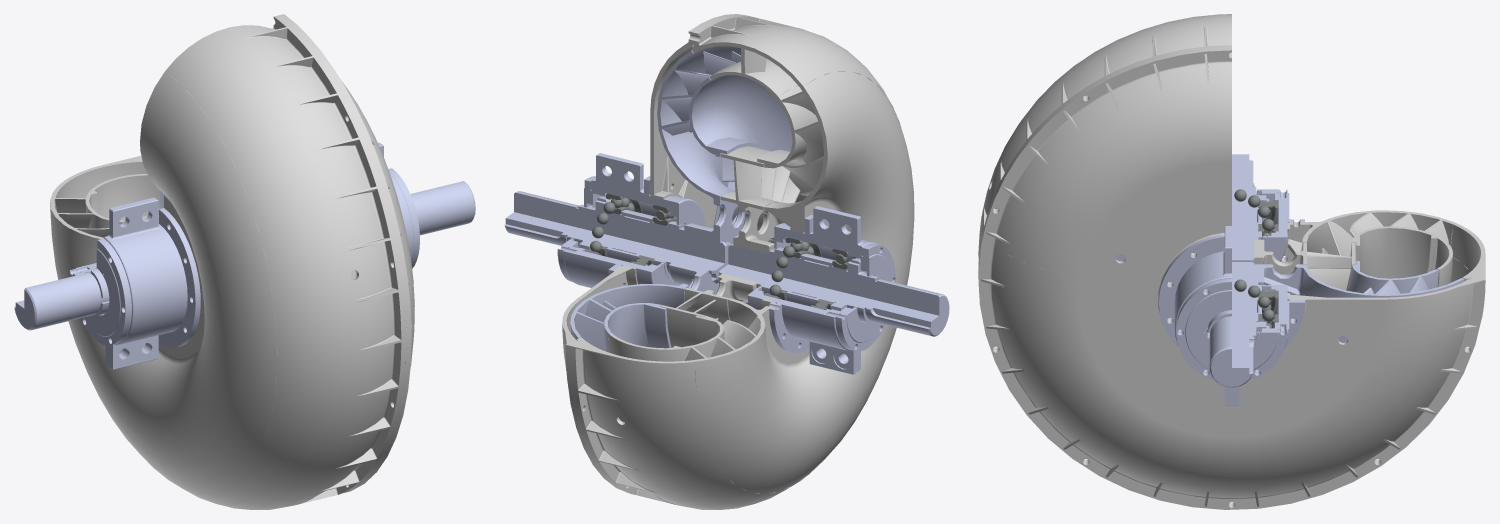
Rendered from 3- повышающий гидротрансформатор.FBX.
3 renders of one model, left to right at view 1: azimuth 30°, elevation 25°; view 2: azimuth 150°, elevation 25°; view 3: azimuth 270°, elevation 25°, orthographic. The views are drawn at different scales.
Parts seen in each view (by area): view 1: Статор - сборка-1/Статор - половина-1-1/Обод статора - левый (×3), Реактор - сборка-1/Обод РК-деталь-1-1-solid2, Статор - сборка-1/Статор - половина-1/Обод статора - левый-1, Стакан-2-1-solid1, Вал-2-1-1-solid1, Крышка-сборка из двух-1/Крышка-левая-2-1-solid1, Крышка подшипника-3-1-solid1, Вал-1-1-solid1, фланец для корпусов-2-1-solid1, Крышка-сборка из двух-1/Крышка-левая-1-solid1, Крышка подшипника-1-1-solid1, Стакан-1-1-solid1 (+1 smaller); view 2: Реактор - сборка-1/Обод РК-деталь-1-1-solid2, Статор - сборка-1/Статор - половина-1/Обод статора - левый-1, Статор - сборка-1/Статор - половина-1-1/Обод статора - левый (×4), НК - сборка-1/Обод НК-деталь-1-1-solid2, НК - сборка-1/Обод НК-деталь-1-1-solid1, Вал-2-1-1-solid1, Вал-1-1-solid1, Стакан-2-1-solid1, Стакан-1-1-solid1, ТК - сборка-1/Обод ТК-деталь-1-1-solid2, Крышка-сборка из двух-1/Крышка-левая-2-1-solid1, Реактор - сборка-1/Обод РК-деталь-1-1-solid1 (+15 smaller); view 3: Крышка-сборка из двух-1/Крышка-левая-1-solid1, Крышка-сборка из двух-1/Крышка-левая-2-1-solid1, Статор - сборка-1/Статор - половина-1-1/Обод статора - левый (×3), Крышка-сборка из двух-1/Крышка-левая-2-1-solid2, Вал-1-1-solid1, Крышка подшипника-1-1-solid1, Реактор - сборка-1/Обод РК-деталь-1-1-solid1, Стакан-1-1-solid1, Реактор - сборка-1/Обод РК-деталь-1-1-solid2, фланец для корпусов-1-1-solid1, НК - сборка-1/Обод НК-деталь-1-1-solid2, Вал-2-1-1-solid1 (+5 smaller).
Part boxes in pixels (box(x1,y1,x2,y2)): Статор - сборка-1/Статор - половина-1-1/Обод статора - левый (×3): box(53, 15, 404, 323); Реактор - сборка-1/Обод РК-деталь-1-1-solid2: box(50, 71, 277, 493); Статор - сборка-1/Статор - половина-1/Обод статора - левый-1: box(159, 197, 406, 509); Стакан-2-1-solid1: box(76, 197, 187, 369); Вал-2-1-1-solid1: box(14, 268, 109, 330); Крышка-сборка из двух-1/Крышка-левая-2-1-solid1: box(279, 14, 413, 302); Крышка подшипника-3-1-solid1: box(69, 238, 131, 345); Вал-1-1-solid1: box(410, 181, 475, 235); фланец для корпусов-2-1-solid1: box(158, 208, 200, 347); Крышка-сборка из двух-1/Крышка-левая-1-solid1: box(344, 285, 414, 492); Крышка подшипника-1-1-solid1: box(388, 168, 419, 268); Стакан-1-1-solid1: box(378, 142, 413, 259); Реактор - сборка-1/Обод РК-деталь-1-1-solid2: box(693, 71, 914, 494); Статор - сборка-1/Статор - половина-1/Обод статора - левый-1: box(572, 375, 820, 509); Статор - сборка-1/Статор - половина-1-1/Обод статора - левый (×4): box(570, 15, 901, 395); НК - сборка-1/Обод НК-деталь-1-1-solid2: box(570, 46, 744, 339); НК - сборка-1/Обод НК-деталь-1-1-solid1: box(604, 75, 792, 352); Вал-2-1-1-solid1: box(719, 244, 949, 336); Вал-1-1-solid1: box(504, 191, 731, 283); Стакан-2-1-solid1: box(747, 206, 879, 374); Стакан-1-1-solid1: box(563, 153, 705, 287); ТК - сборка-1/Обод ТК-деталь-1-1-solid2: box(684, 191, 783, 324); Крышка-сборка из двух-1/Крышка-левая-2-1-solid1: box(649, 14, 750, 202); Реактор - сборка-1/Обод РК-деталь-1-1-solid1: box(674, 86, 817, 361); Крышка-сборка из двух-1/Крышка-левая-1-solid1: box(978, 244, 1482, 509); Крышка-сборка из двух-1/Крышка-левая-2-1-solid1: box(981, 48, 1231, 289); Статор - сборка-1/Статор - половина-1-1/Обод статора - левый (×3): box(981, 14, 1485, 286); Крышка-сборка из двух-1/Крышка-левая-2-1-solid2: box(1287, 277, 1485, 323); Вал-1-1-solid1: box(1207, 262, 1261, 387); Крышка подшипника-1-1-solid1: box(1176, 279, 1287, 380); Реактор - сборка-1/Обод РК-деталь-1-1-solid1: box(1350, 226, 1435, 278); Стакан-1-1-solid1: box(1174, 226, 1289, 405); Реактор - сборка-1/Обод РК-деталь-1-1-solid2: box(1280, 210, 1454, 262); фланец для корпусов-1-1-solid1: box(1159, 234, 1304, 347); НК - сборка-1/Обод НК-деталь-1-1-solid2: box(1116, 254, 1464, 342); Вал-2-1-1-solid1: box(1232, 154, 1261, 262).
Bounding box in the file's own units: 675 × 677 × 677.
